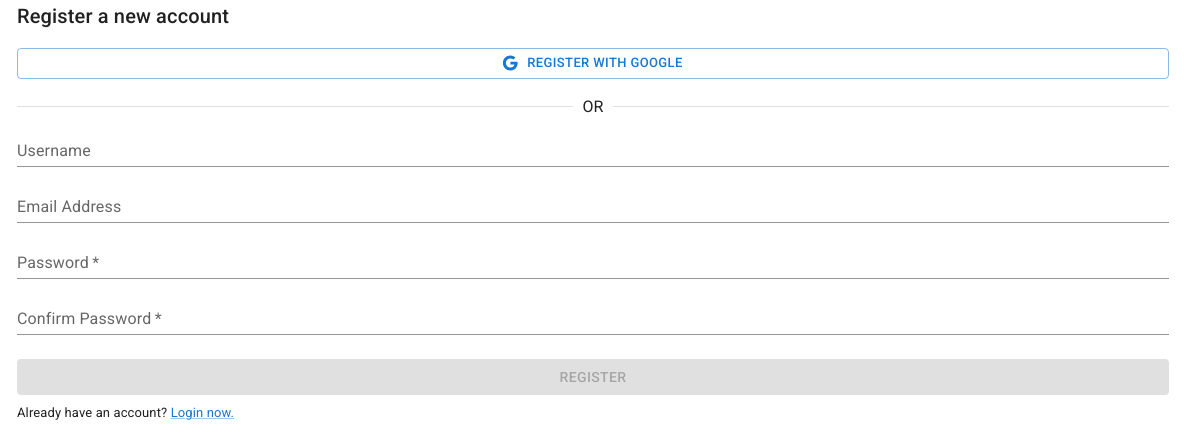
Test: <Register /> › Register button is enabled when all fields are populated
Type "update" into the field with placeholder "Username" at point(593, 151), box [17, 135, 1169, 167]
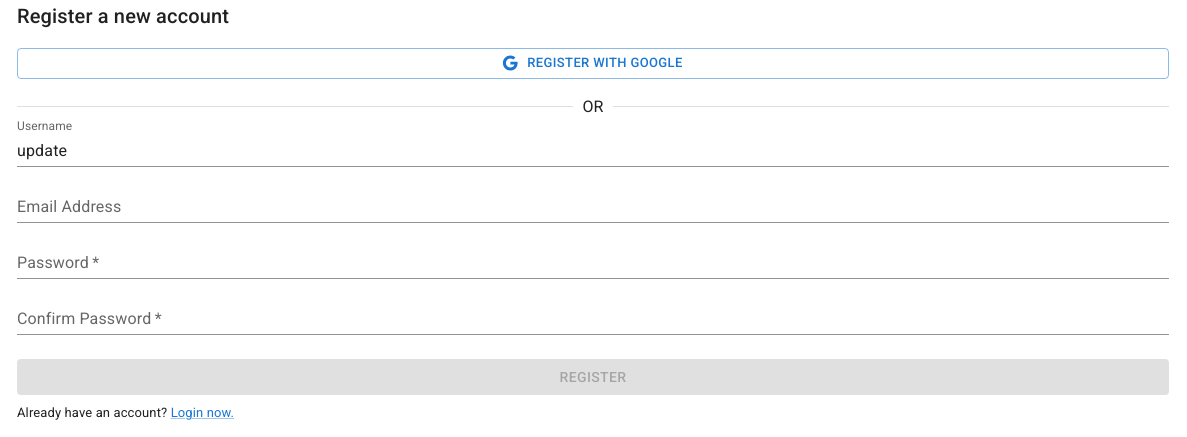
Type "update" into the field with placeholder "Email Address" at point(593, 207), box [17, 191, 1169, 223]
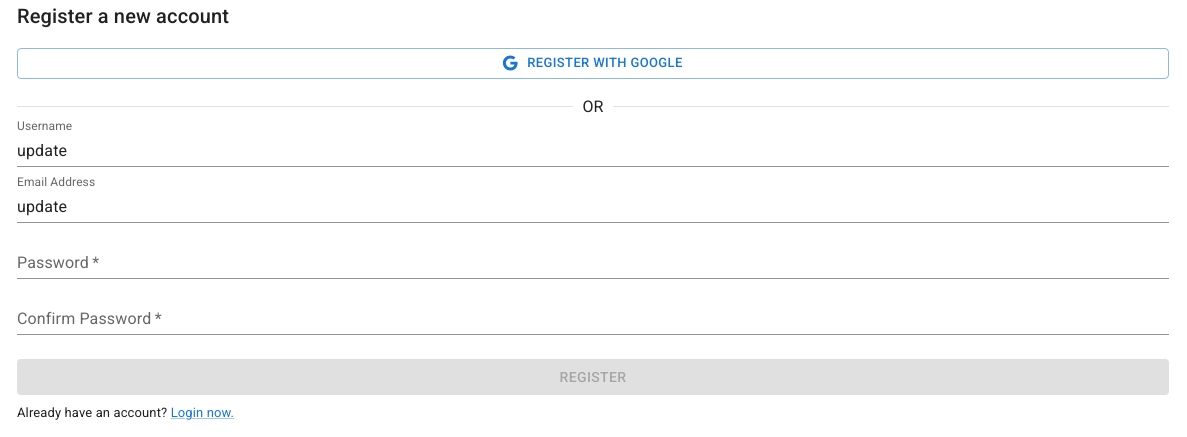
Type "update" into the password field with placeholder "Password" at point(593, 263), box [17, 247, 1169, 279]
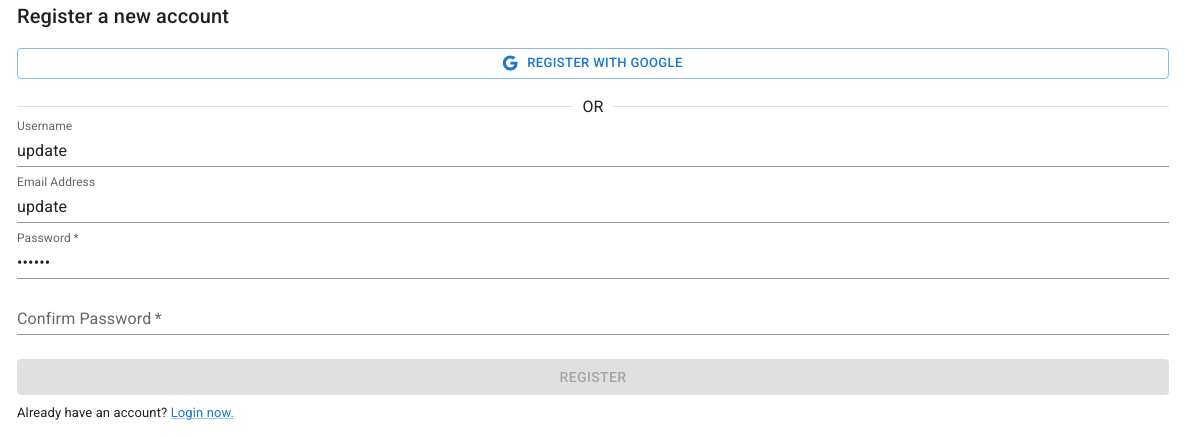
Type "update" into the password field with placeholder "Confirm Password" at point(593, 319), box [17, 303, 1169, 335]
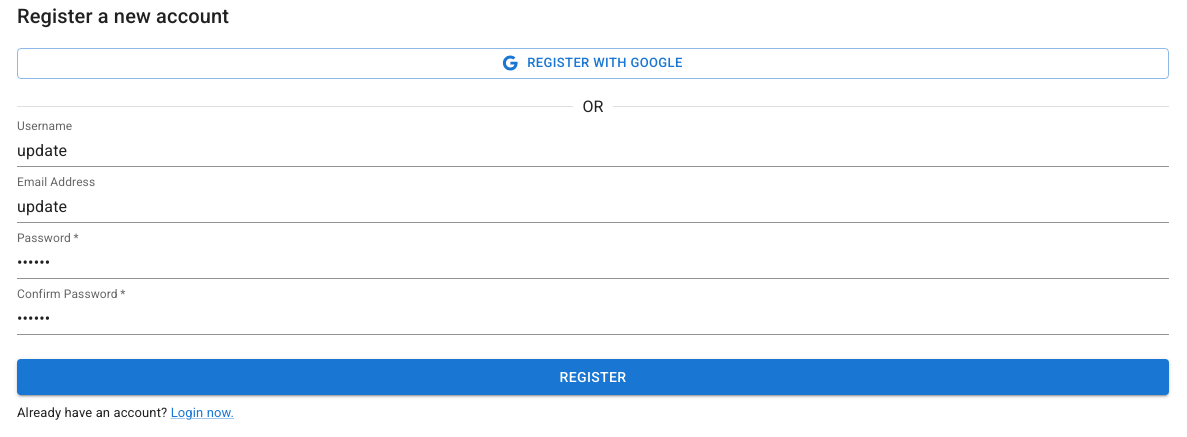
Check: the button "Register" is enabled, box [17, 359, 1169, 395]
